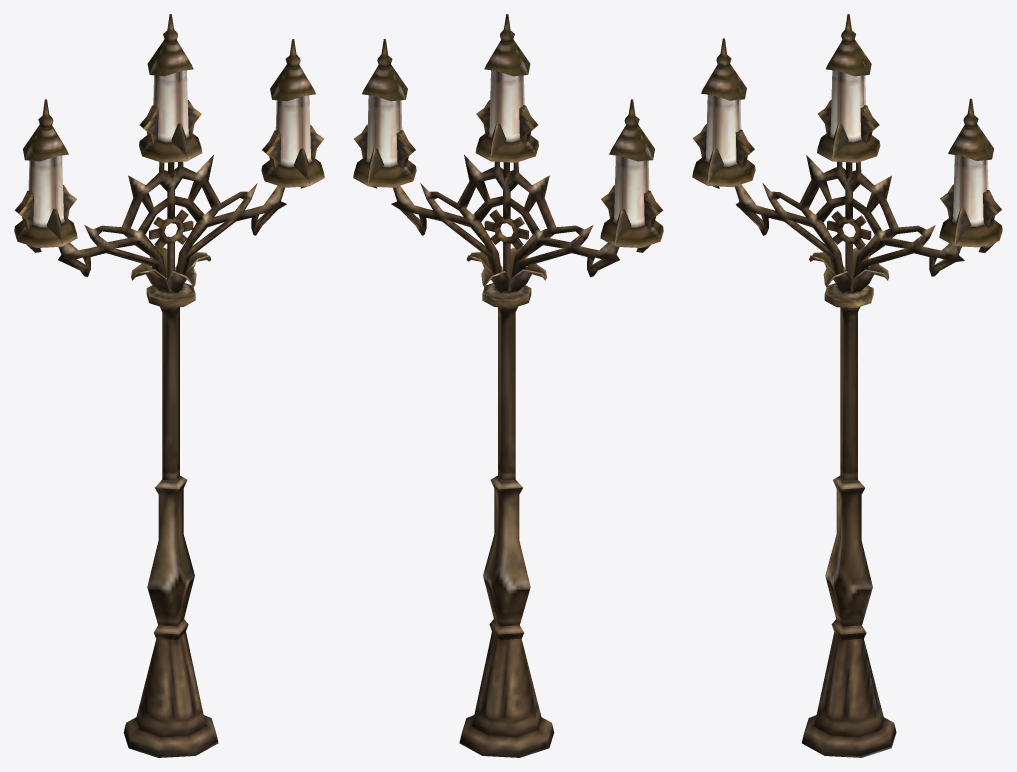
File: SM_zhucheng_ludeng03.FBX
3 renders of one model, left to right at view 1: azimuth 30°, elevation 25°; view 2: azimuth 150°, elevation 25°; view 3: azimuth 330°, elevation 25°, orthographic.
Visible parts, largest first — view 1: SM_zhucheng_ludeng03; view 2: SM_zhucheng_ludeng03; view 3: SM_zhucheng_ludeng03.
Part boxes in pixels (<box>): SM_zhucheng_ludeng03: <box>14,14,324,757</box>; SM_zhucheng_ludeng03: <box>353,14,663,757</box>; SM_zhucheng_ludeng03: <box>692,14,1002,757</box>.
Bounding box in the file's own units: 112 × 254 × 31.25.
